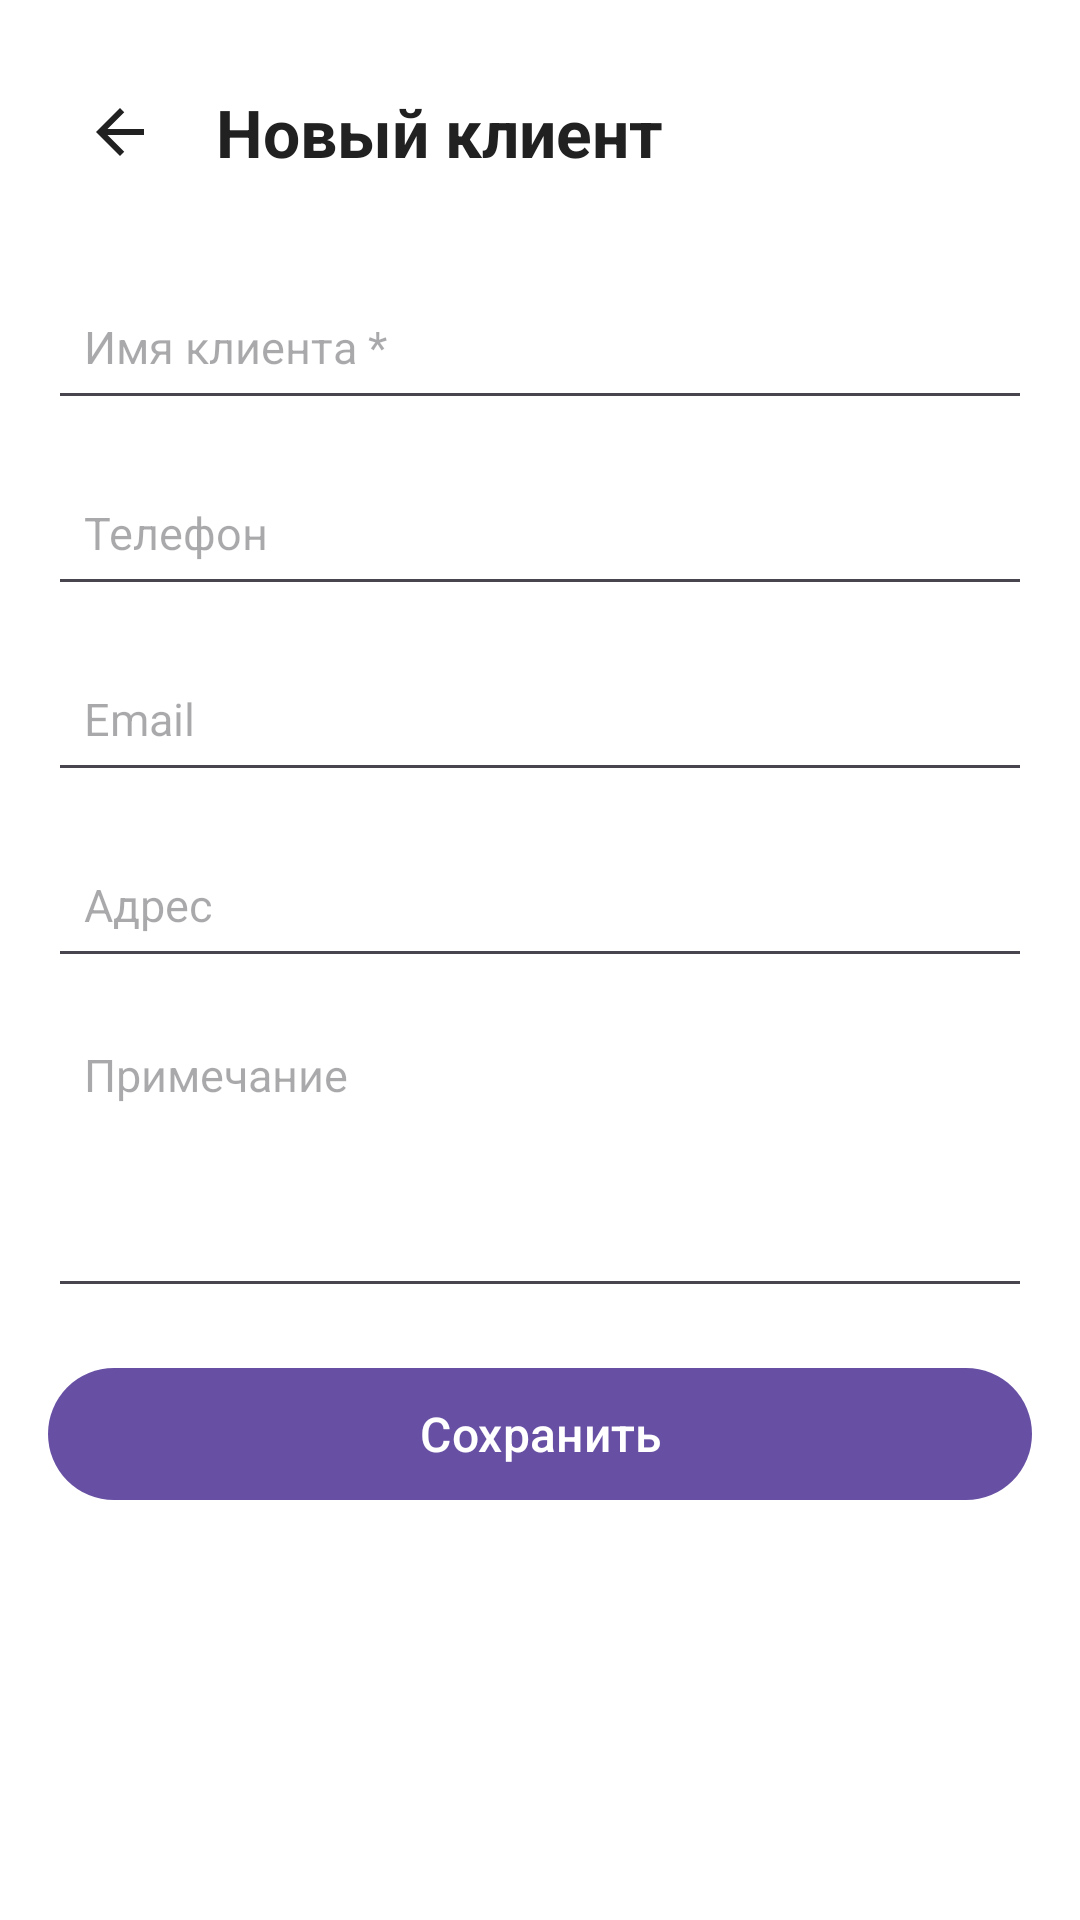

Named icons in this screenshot (1080px×1920px) and their bounding boxes, (x1, y1, x2, y2):
Назад: (96, 108, 144, 156)
